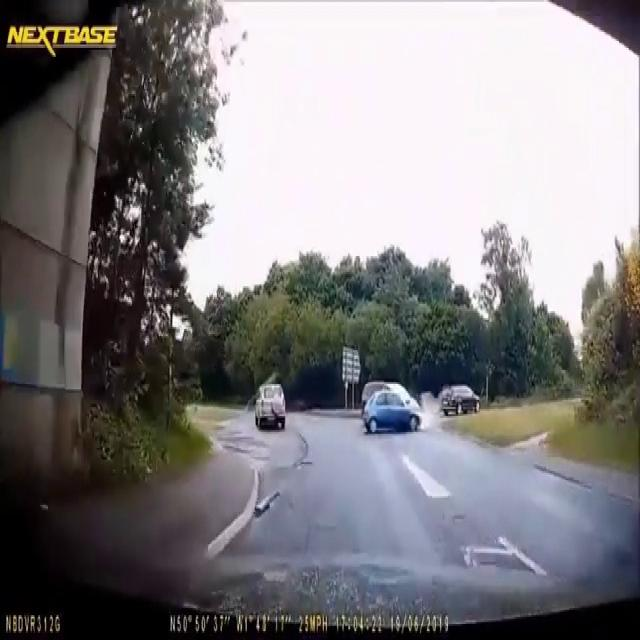moderate: (358, 374, 424, 441)
